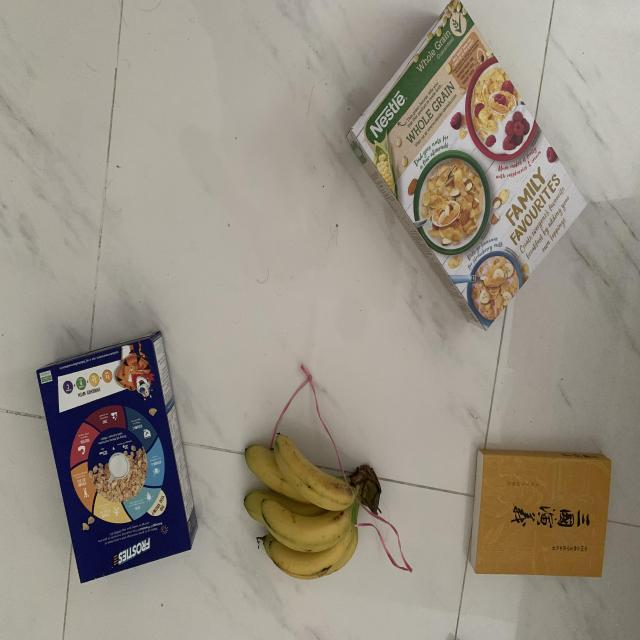Banana: (240, 431, 384, 586)
Book: (466, 446, 613, 587)
Cerealbox: (340, 0, 589, 335), (34, 328, 204, 588)
